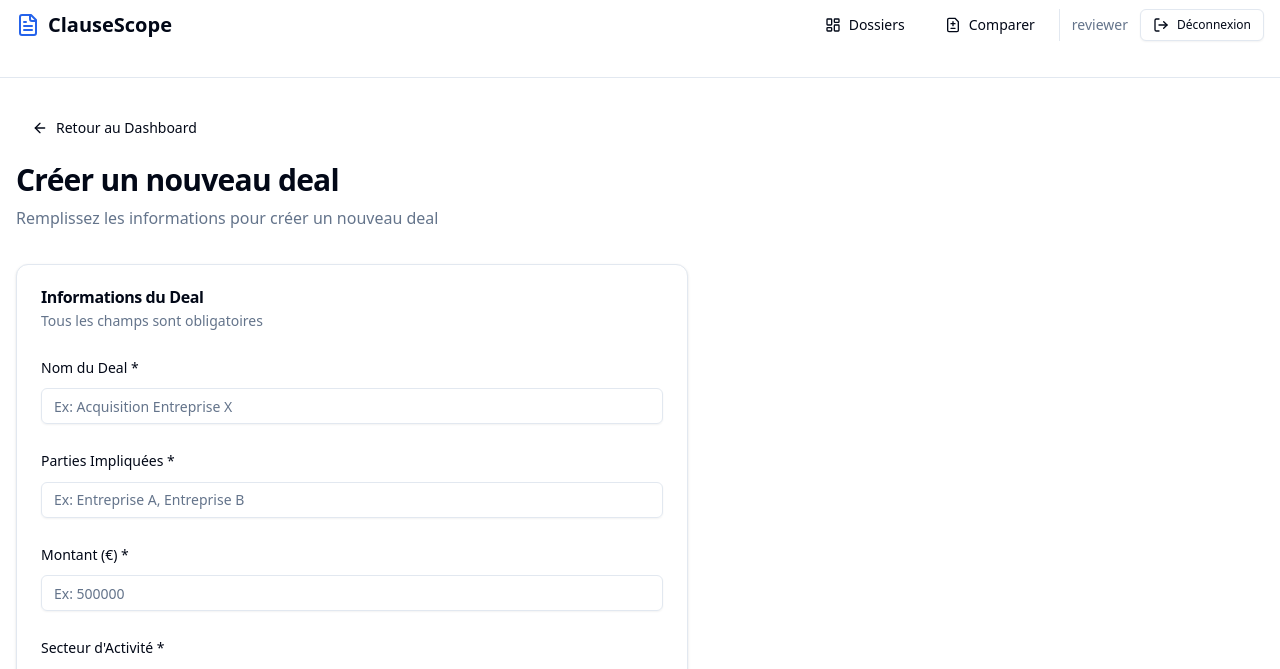
Test: CreateDealPage › should show validation error when secteur is empty
Type "Test Deal" into the field labelled "Nom du Deal *" at {"x": 352, "y": 406}, box [41,388,663,424]
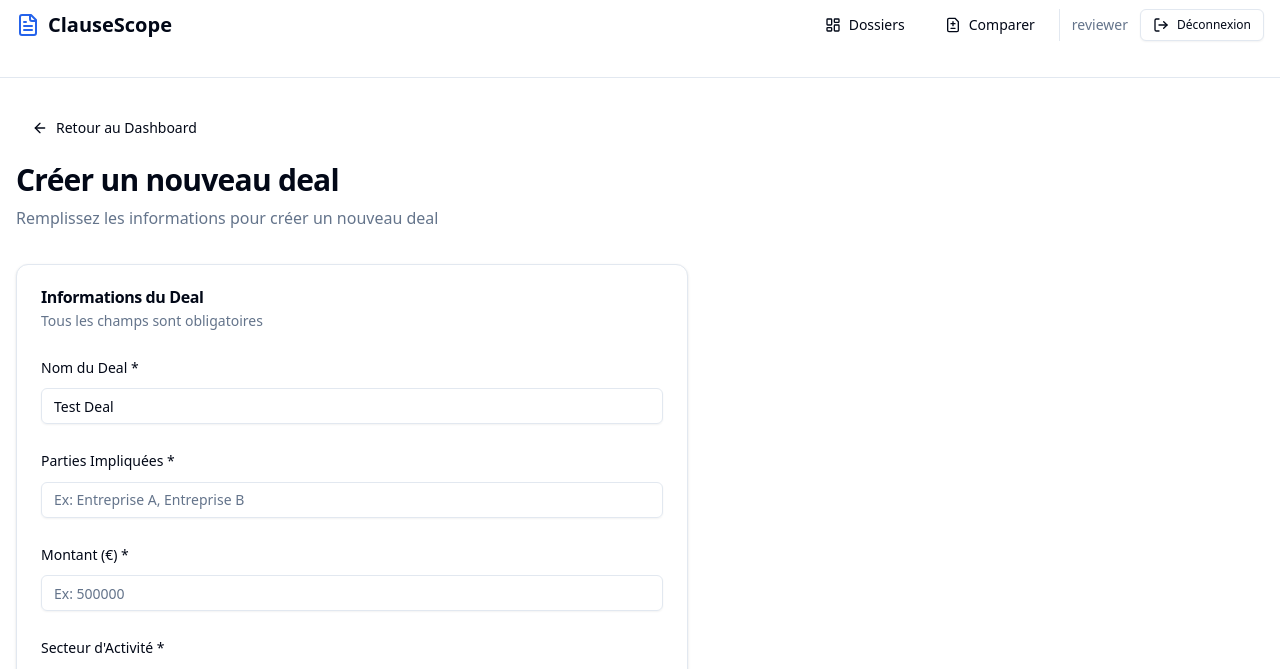
Type "Company A" into the field labelled "Parties Impliquées *" at {"x": 352, "y": 500}, box [41,482,663,518]
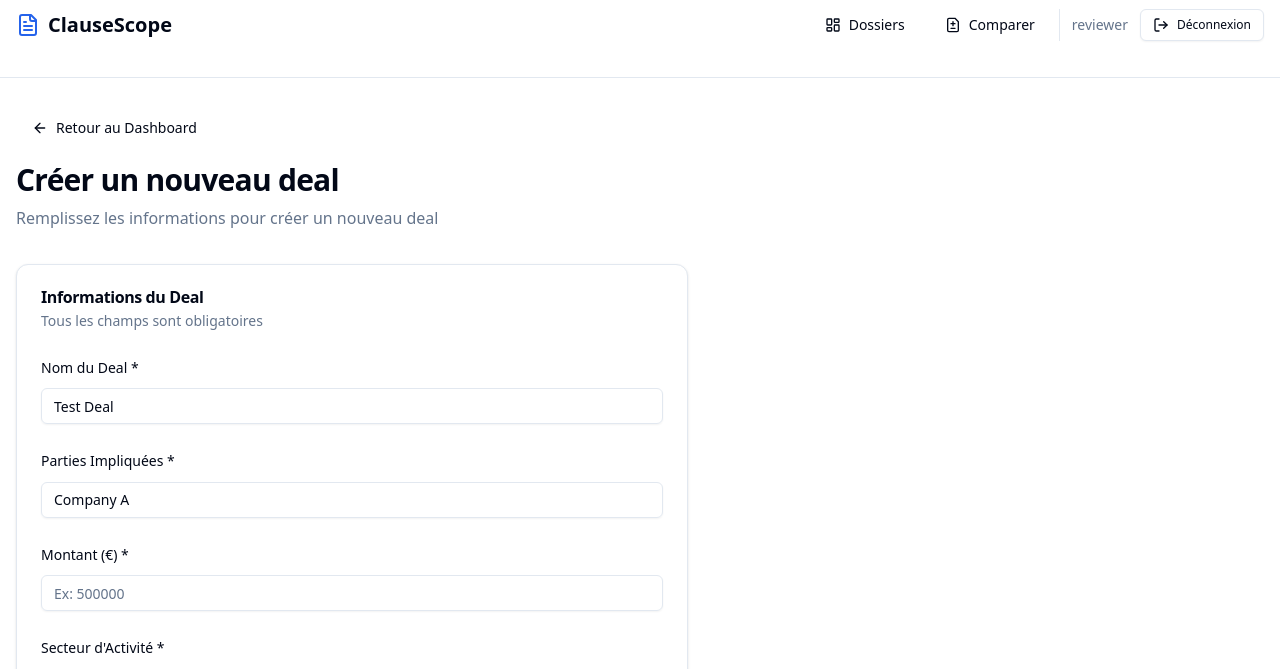
Type "100000" into the number field labelled "Montant (€) *" at {"x": 352, "y": 593}, box [41,575,663,611]
(page scrolled)
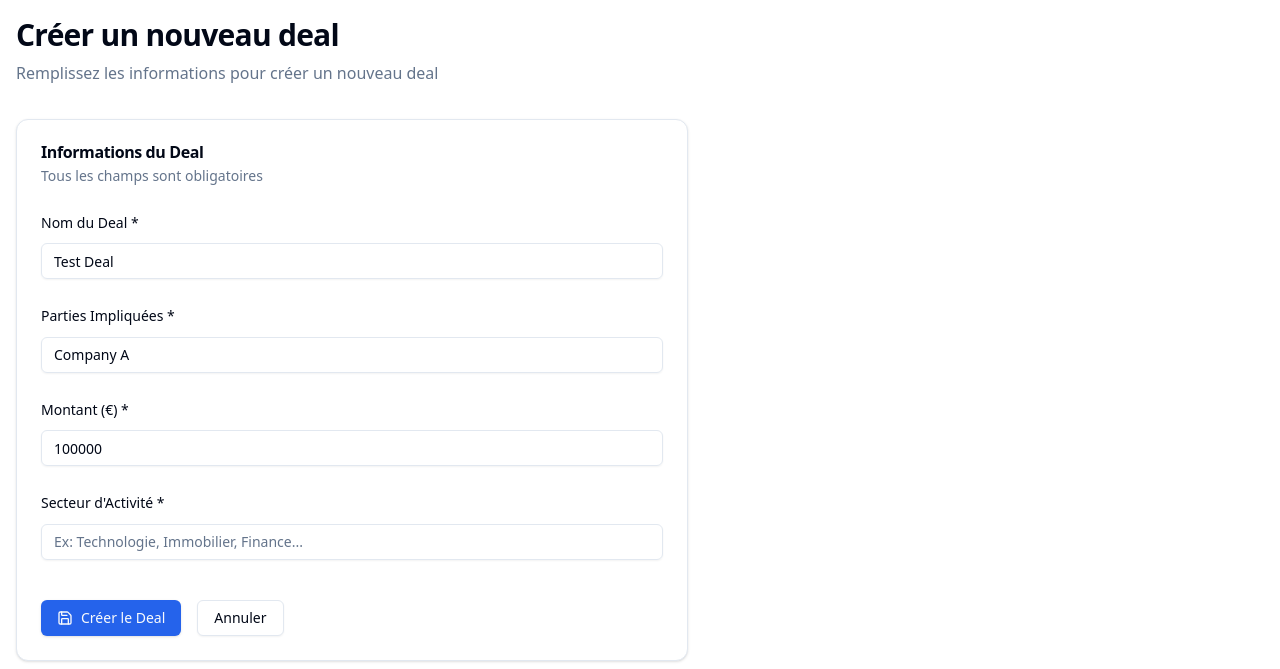
Click the button "Créer le Deal" at {"x": 111, "y": 618}, box [41,600,181,636]
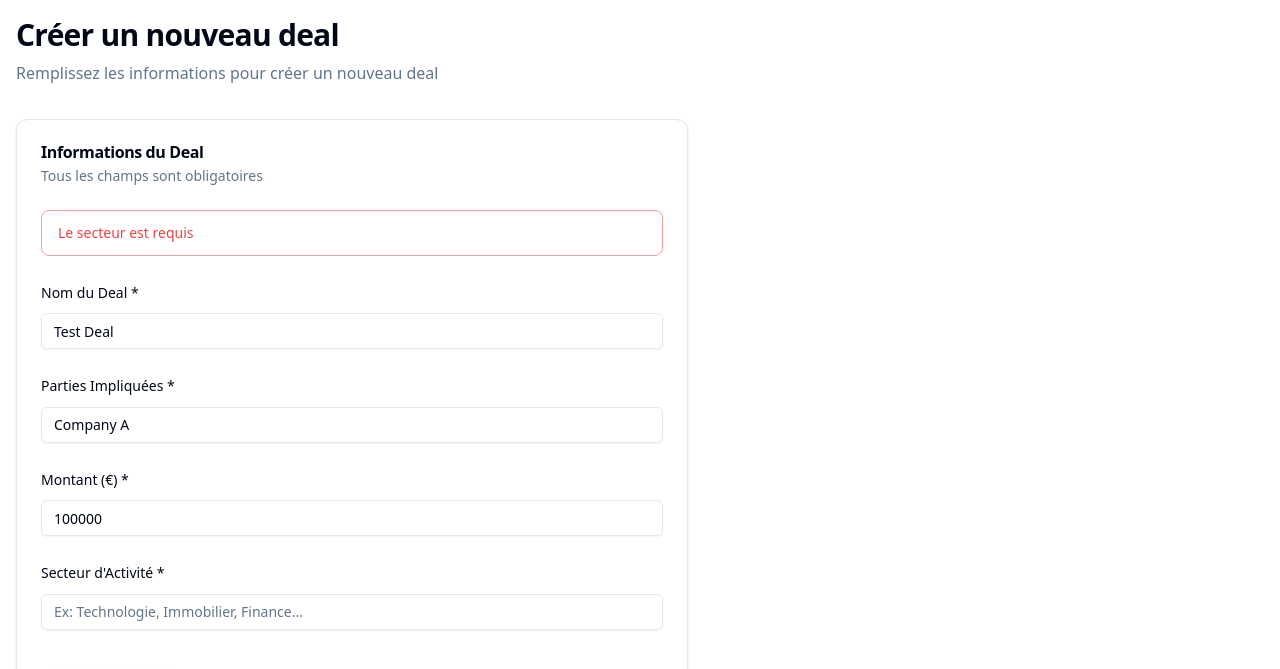
Expected: the text "Le secteur est requis" is shown, [58,223,194,242]
